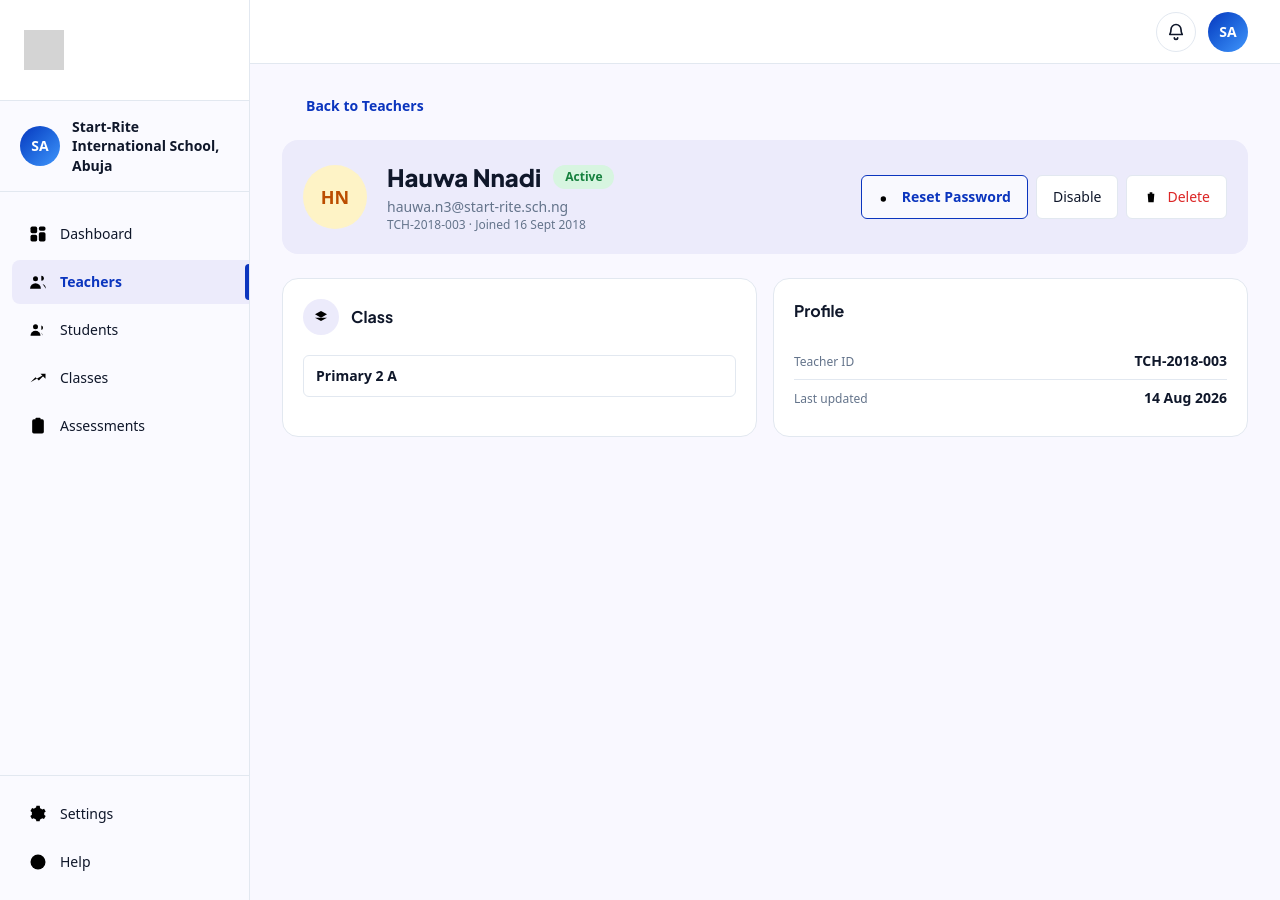
Test case: TeacherDetailPage › sends a password reset link without ever showing a credential
Click the button "Reset Password" at [944, 197], box [861, 175, 1028, 219]
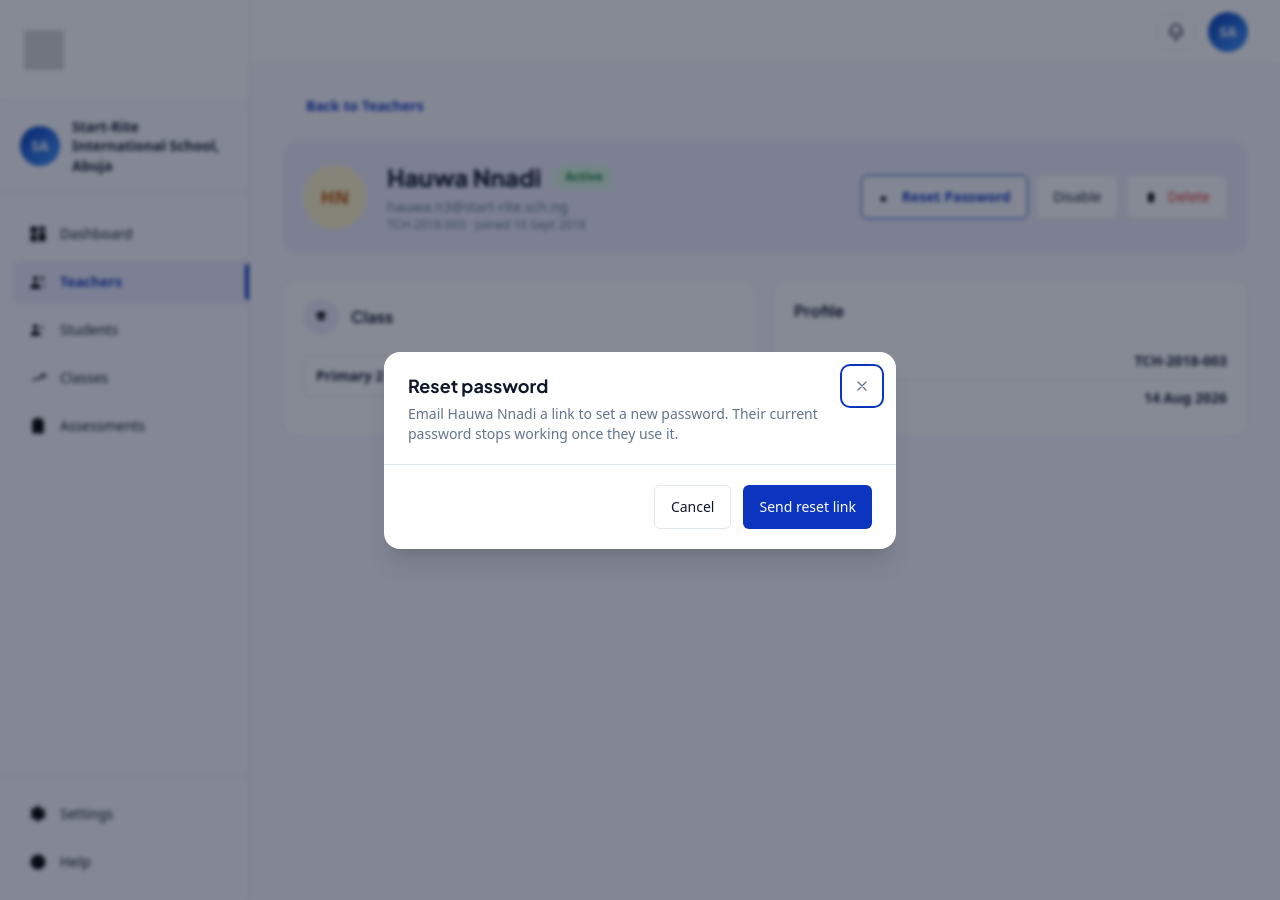
Click the button "Send reset link" at [808, 506], box [744, 484, 872, 528]
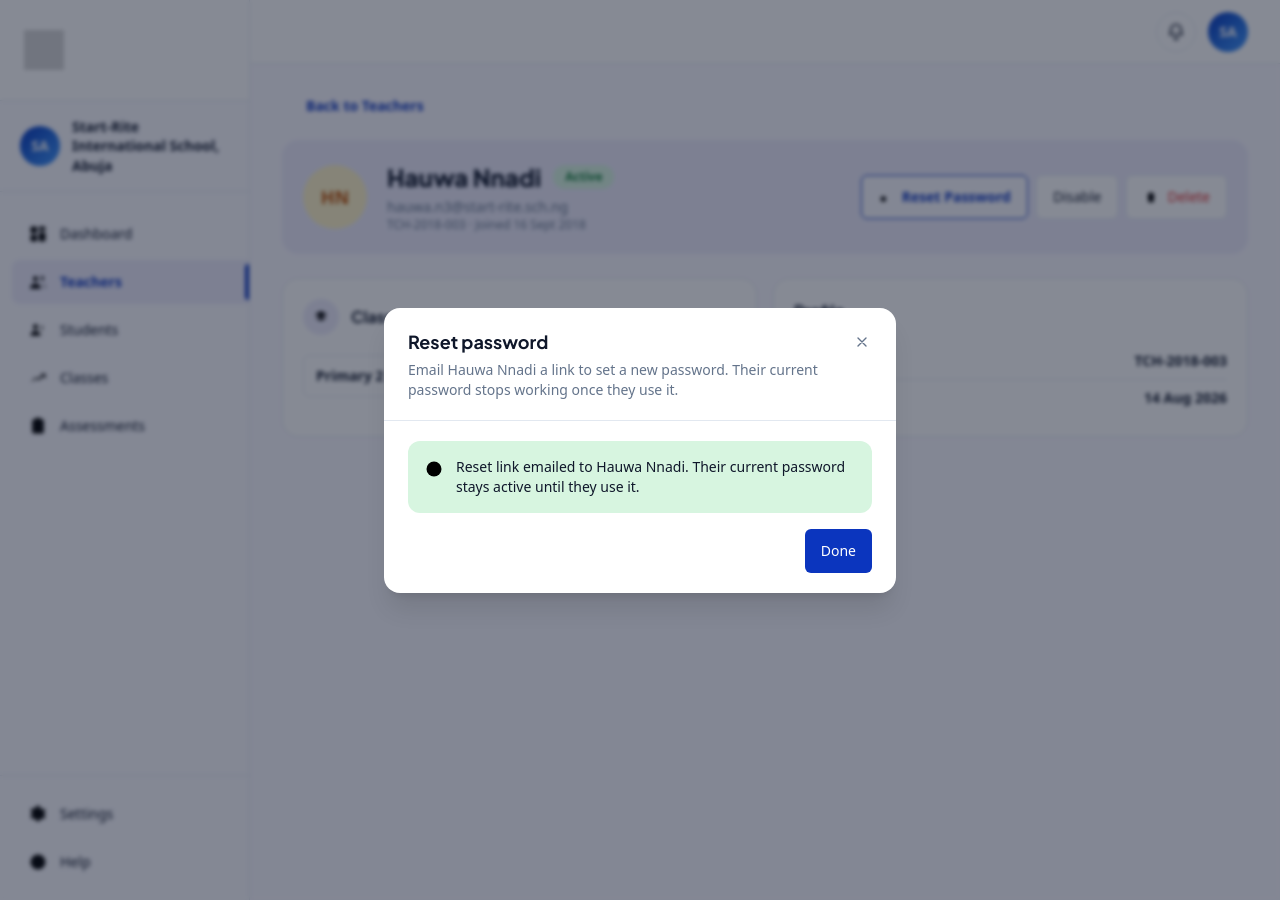
Expected: the text "Reset link emailed to" is shown, [456, 456, 596, 476]
